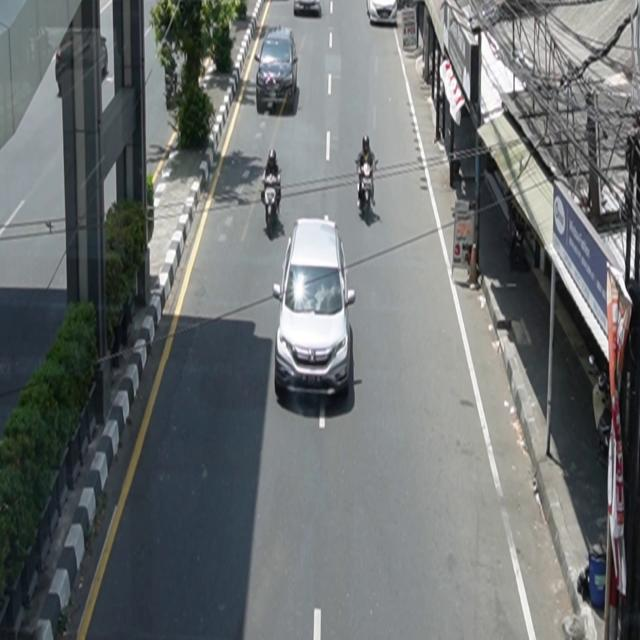car: (273, 217, 357, 400), (255, 26, 299, 116), (56, 27, 109, 98), (367, 1, 398, 26), (294, 1, 323, 18)
